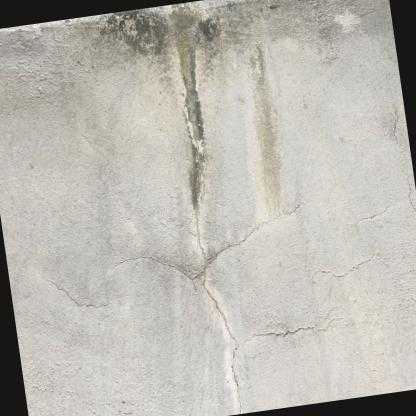crack: (110, 214, 257, 414), (255, 316, 334, 338)
